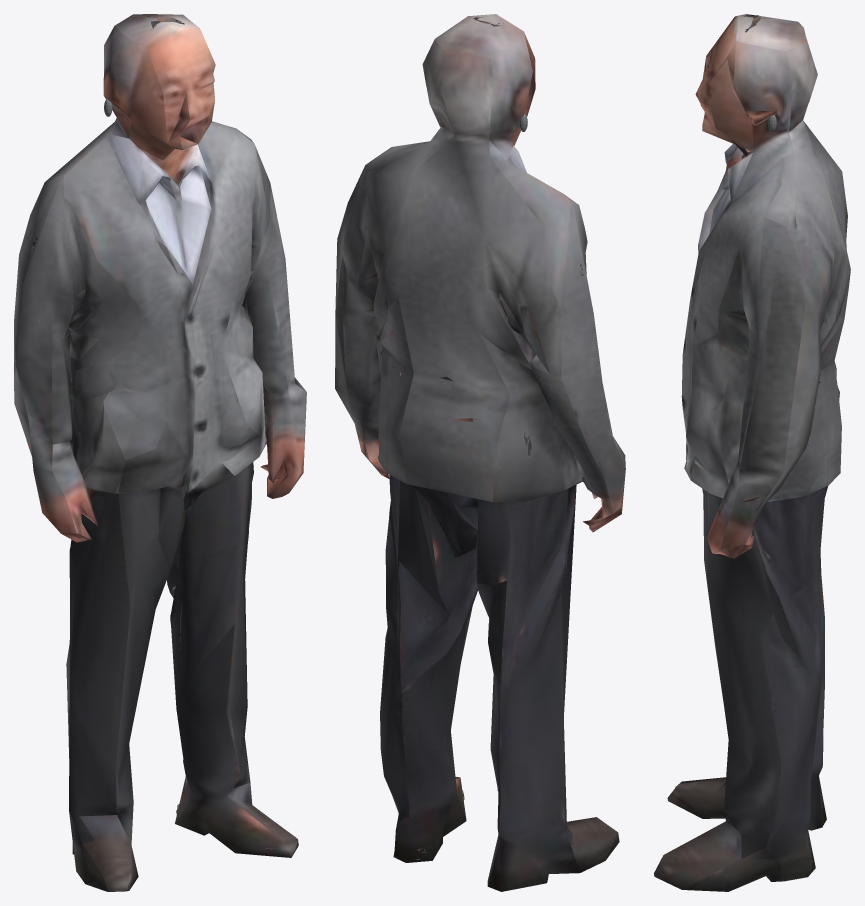
The model's file is person_26.glb.
3 renders of one model, left to right at view 1: azimuth 30°, elevation 25°; view 2: azimuth 150°, elevation 25°; view 3: azimuth 270°, elevation 25°, orthographic.
Visible parts, largest first — view 1: Human_Rig; view 2: Human_Rig; view 3: Human_Rig.
Part boxes in pixels (<box>): Human_Rig: <box>14,14,306,891</box>; Human_Rig: <box>335,14,625,891</box>; Human_Rig: <box>654,14,850,891</box>.
Size of the model in its own units: 0.5534 by 1.62 by 0.3496.
Materials: 2 (1 with a texture image).
